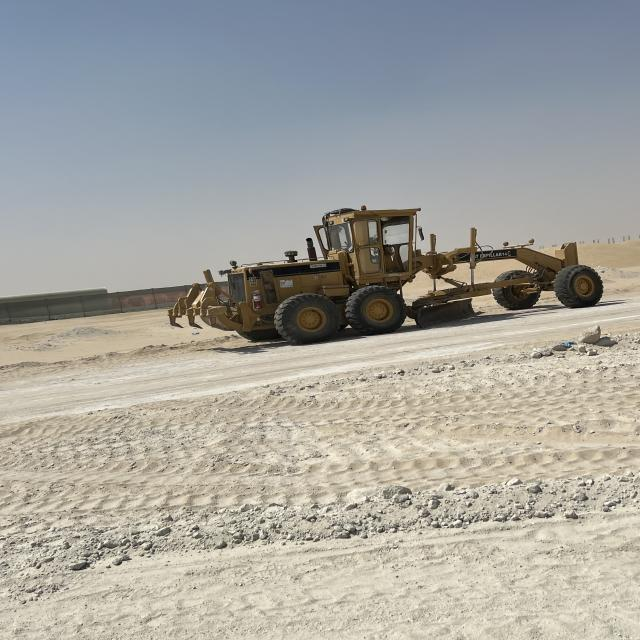buldozerpayloadergrader: (166, 194, 605, 348)
